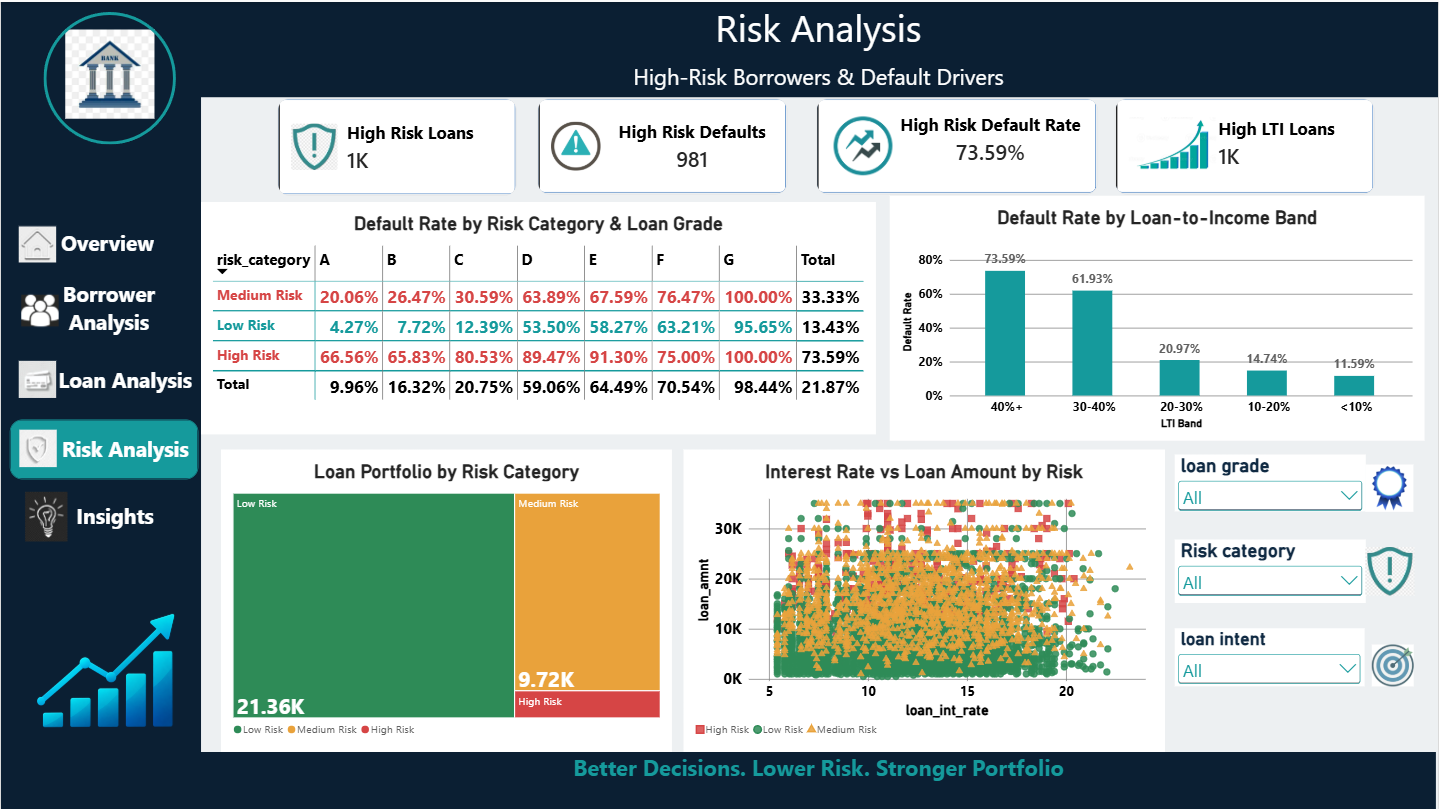

This screenshot's page, from the dashboard's own definition file:
{"tool":"powerbi","page":{"name":"Risk Analysis","canvas":[1920,1080],"ordinal":3},"visuals":[{"type":"textbox","title":"Risk Analysis","box":[263.8,0,1656.4,126.9],"z":0},{"type":"textbox","box":[0,0,267.2,1080.3],"z":1000},{"type":"cardVisual","fields":{"Data":["credit_risk_analysis credit_risk.High Risk Loans"]},"box":[369.2,128.5,320.3,130.3],"z":2000},{"type":"cardVisual","fields":{"Data":["credit_risk_analysis credit_risk.High Risk Defaults"]},"box":[716.6,128.5,334.8,128.5],"z":3000},{"type":"cardVisual","fields":{"Data":["credit_risk_analysis credit_risk.High Risk Default Rate"]},"box":[1089.4,128.5,376.4,128.5],"z":4000},{"type":"cardVisual","fields":{"Data":["credit_risk_analysis credit_risk.High LTI Loans"]},"box":[1487.5,128.5,347.5,128.5],"z":5000},{"type":"pivotTable","title":"Default Rate by Risk Category & Loan Grade","fields":{"Rows":["credit_risk_analysis credit_risk.risk_category"],"Columns":["credit_risk_analysis credit_risk.loan_grade"],"Values":["credit_risk_analysis credit_risk.Default Rate"]},"box":[267.2,267.2,901.7,310.6],"z":6000},{"type":"clusteredColumnChart","title":"Default Rate by Loan-to-Income Band","fields":{"Y":["credit_risk_analysis credit_risk.Default Rate"],"Category":["credit_risk_analysis credit_risk.LTI Band"]},"box":[1187.2,258.8,714.7,327.3],"z":7000},{"type":"treemap","title":"Loan Portfolio by Risk Category","fields":{"Values":["CountNonNull(credit_risk_analysis credit_risk.loan_status)"],"Group":["credit_risk_analysis credit_risk.risk_category"]},"box":[293.9,597.8,602.8,404.1],"z":8000},{"type":"scatterChart","title":"Interest Rate vs Loan Amount by Risk","fields":{"Y":["credit_risk_analysis credit_risk.loan_amnt"],"X":["credit_risk_analysis credit_risk.loan_int_rate"],"Series":["credit_risk_analysis credit_risk.risk_category"]},"box":[911.7,597.8,642.9,404.1],"z":9000},{"type":"slicer","fields":{"Values":["credit_risk_analysis credit_risk.loan_grade"]},"box":[1567.2,604.4,255.2,76],"z":10000},{"type":"slicer","fields":{"Values":["credit_risk_analysis credit_risk.loan_intent"]},"box":[1567.2,836.1,253.4,77.8],"z":11000},{"type":"slicer","title":"Home Ownership","fields":{"Values":["credit_risk_analysis credit_risk.risk_category"]},"box":[1567.2,718.4,255.2,85.1],"z":12000},{"type":"actionButton","box":[11.7,280.5,235.4,83.5],"z":13000},{"type":"actionButton","box":[15,364,232.1,98.5],"z":14000},{"type":"actionButton","box":[11.7,462.5,255.5,85.2],"z":15000},{"type":"actionButton","box":[11.7,557.7,252.1,80.1],"z":16000},{"type":"actionButton","box":[15,647.9,248.8,76.8],"z":17000},{"type":"image","box":[43.4,36.2,204.5,119.4],"z":18000},{"type":"shape","box":[56.8,13.4,177,177],"z":19000},{"type":"image","box":[1806,617.1,95.9,63.3],"z":20000},{"type":"image","box":[1816.9,857.8,85.1,56.1],"z":21000},{"type":"image","box":[1820.5,727.5,70.6,65.1],"z":22000},{"type":"textbox","title":"Better Decisions. Lower Risk. Stronger Portfolio","box":[267.2,1001.9,1649.7,78.5],"z":23000},{"type":"image","box":[6.7,743,257.1,300.6],"z":24000}]}

Visuals, with their boxes in screenshot pixels (x1, y1, x2, y2), scaled from the page's 1920x1080 canvas onto the 1439x809 screenshot:
"Risk Analysis" textbox: (left=198, top=0, right=1438, bottom=95)
textbox: (left=0, top=0, right=200, bottom=808)
cardVisual - credit_risk_analysis credit_risk.High Risk Loans: (left=277, top=96, right=517, bottom=194)
cardVisual - credit_risk_analysis credit_risk.High Risk Defaults: (left=537, top=96, right=788, bottom=193)
cardVisual - credit_risk_analysis credit_risk.High Risk Default Rate: (left=816, top=96, right=1099, bottom=193)
cardVisual - credit_risk_analysis credit_risk.High LTI Loans: (left=1115, top=96, right=1375, bottom=193)
"Default Rate by Risk Category & Loan Grade" pivotTable: (left=200, top=200, right=876, bottom=433)
"Default Rate by Loan-to-Income Band" clusteredColumnChart: (left=890, top=194, right=1425, bottom=439)
"Loan Portfolio by Risk Category" treemap: (left=220, top=448, right=672, bottom=750)
"Interest Rate vs Loan Amount by Risk" scatterChart: (left=683, top=448, right=1165, bottom=750)
slicer - credit_risk_analysis credit_risk.loan_grade: (left=1175, top=453, right=1366, bottom=510)
slicer - credit_risk_analysis credit_risk.loan_intent: (left=1175, top=626, right=1365, bottom=685)
"Home Ownership" slicer: (left=1175, top=538, right=1366, bottom=602)
actionButton: (left=9, top=210, right=185, bottom=273)
actionButton: (left=11, top=273, right=185, bottom=346)
actionButton: (left=9, top=346, right=200, bottom=410)
actionButton: (left=9, top=418, right=198, bottom=478)
actionButton: (left=11, top=485, right=198, bottom=543)
image: (left=33, top=27, right=186, bottom=117)
shape: (left=43, top=10, right=175, bottom=143)
image: (left=1354, top=462, right=1425, bottom=510)
image: (left=1362, top=643, right=1426, bottom=685)
image: (left=1364, top=545, right=1417, bottom=594)
"Better Decisions. Lower Risk. Stronger Portfolio" textbox: (left=200, top=750, right=1437, bottom=808)
image: (left=5, top=557, right=198, bottom=782)
